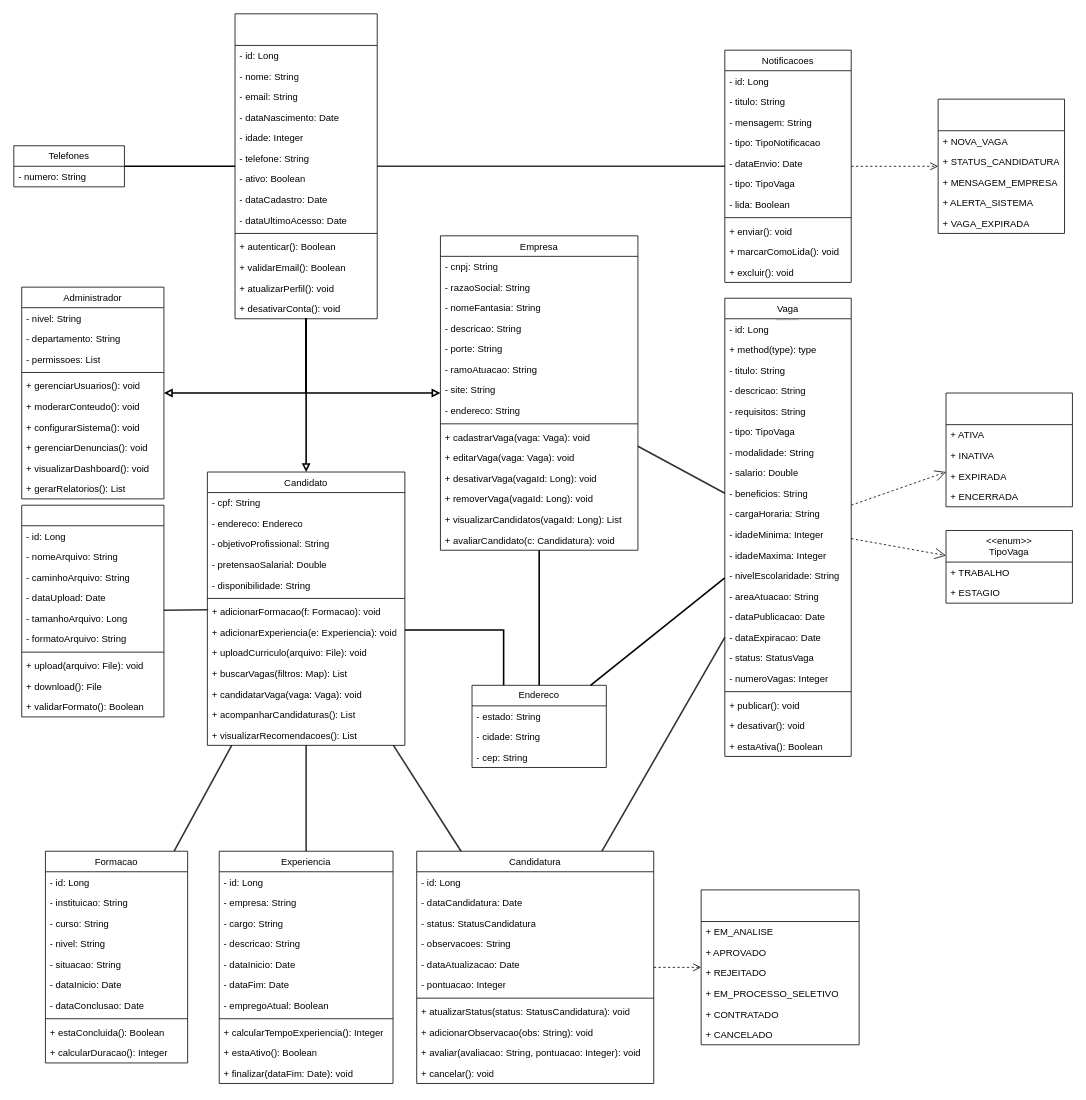
The diagram is 1086 pixels wide and 1100 high, and some of its shapes have lost their labels. Each missing label, with the box of its shape:
<<abstract>> Usuarios: (234, 13, 377, 319)
<<enum>> StatusCandidatura: (700, 889, 859, 1045)
<<enum>> StatusVaga: (945, 392, 1072, 507)
<<enum>> TipoNotificacao: (937, 98, 1065, 233)
Curriculo: (21, 504, 164, 717)
